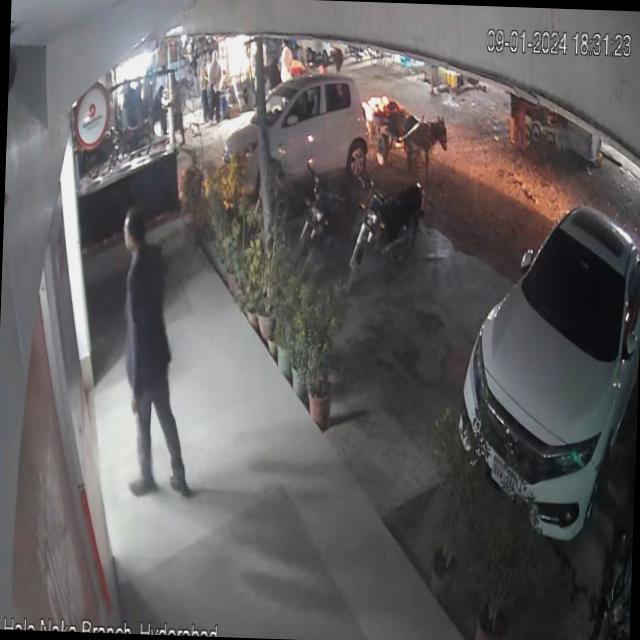Car: (454, 181, 640, 562), (220, 72, 390, 208)
Motorcycle: (349, 162, 430, 302), (286, 152, 364, 272)
